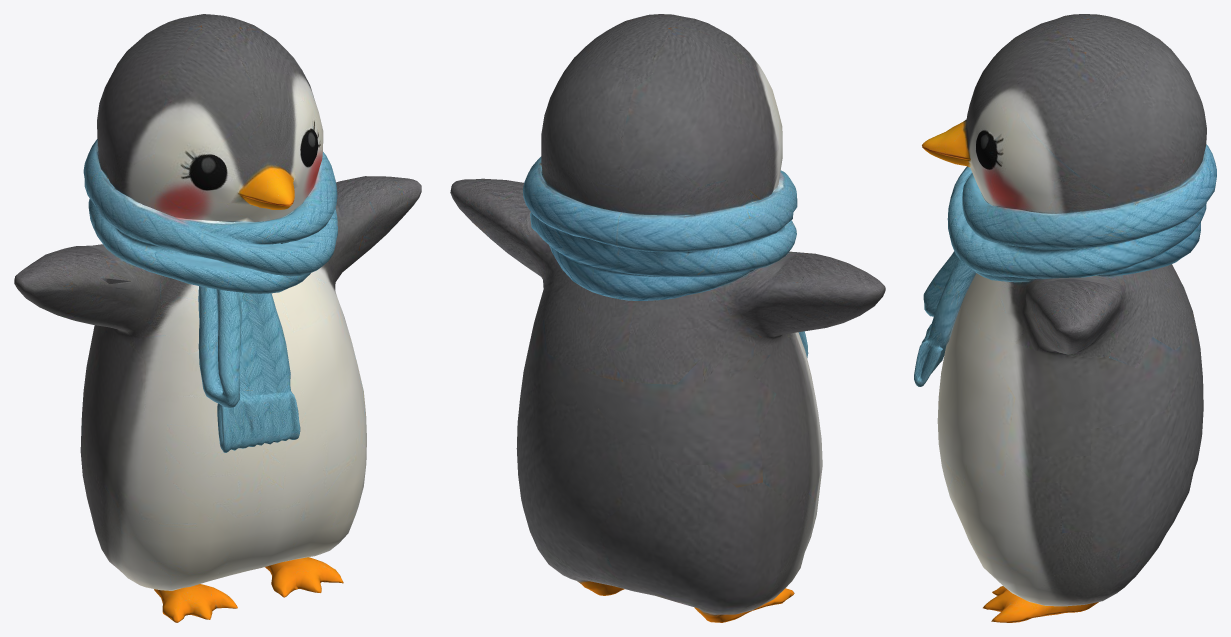
The model's file is c_pengpeng.glb.
The picture shows the model from 3 angles, left to right: view 1: azimuth 30°, elevation 25°; view 2: azimuth 150°, elevation 25°; view 3: azimuth 270°, elevation 25°; orthographic projection. The views are drawn at different scales.
Bounding box in the file's own units: 0.7354 × 0.9502 × 0.4697.
Materials: 1 (1 with a texture image).
